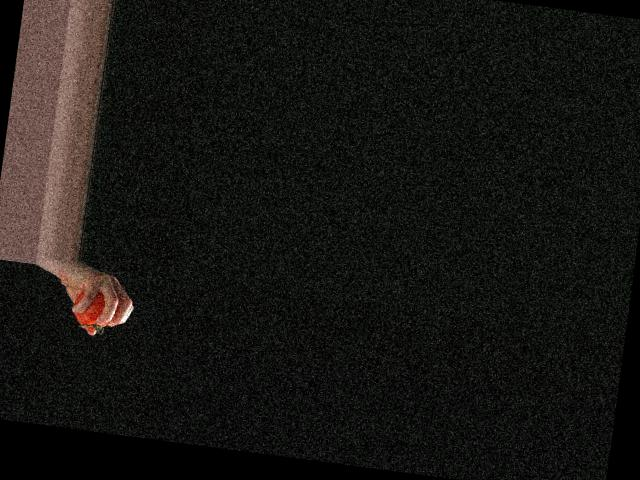tomato: (71, 287, 111, 327)
